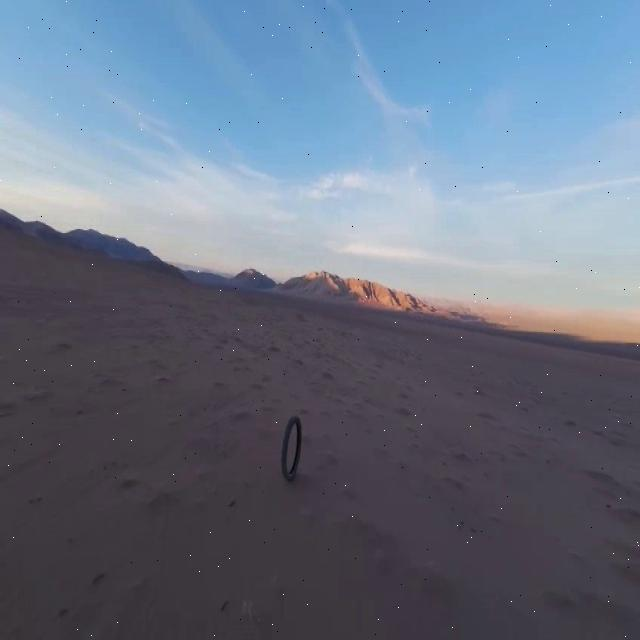Tire: (282, 415, 302, 481)
